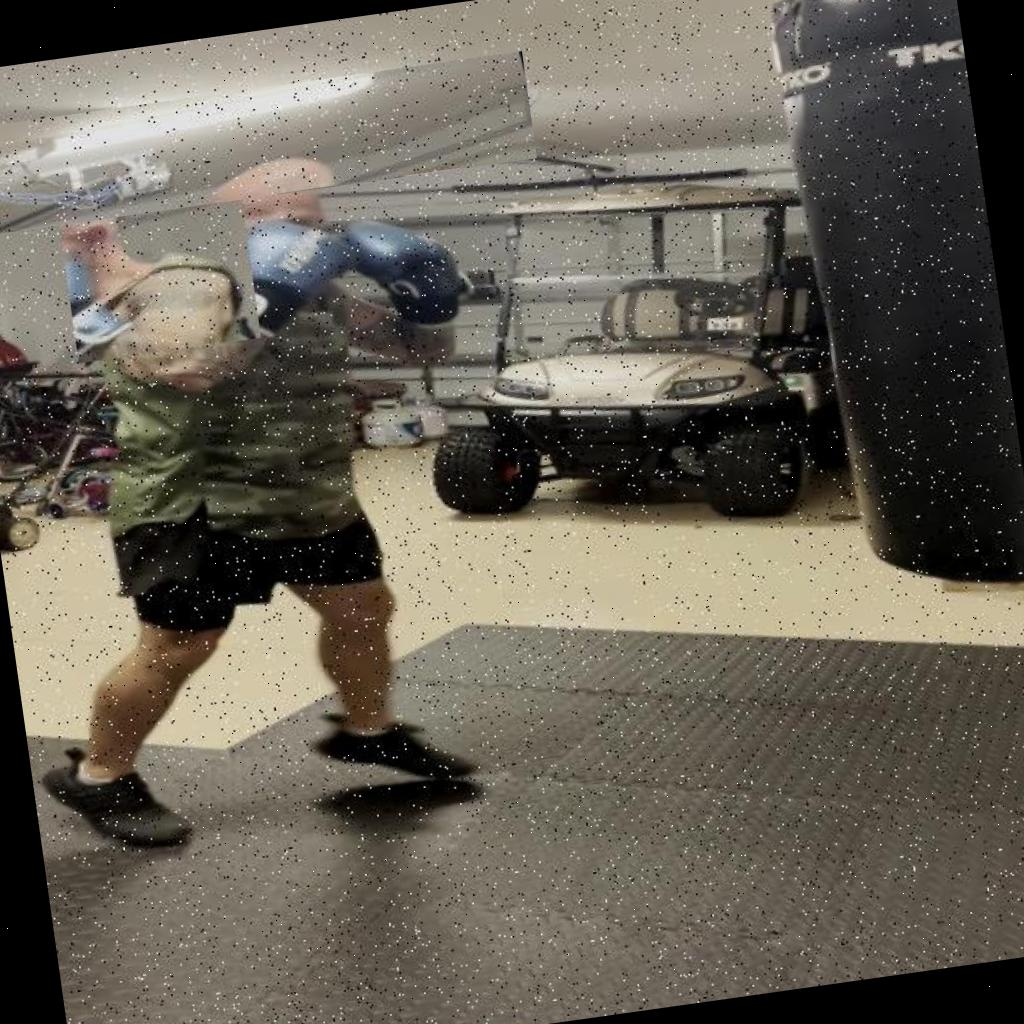bag: (0, 52, 524, 202), (61, 220, 245, 360)
